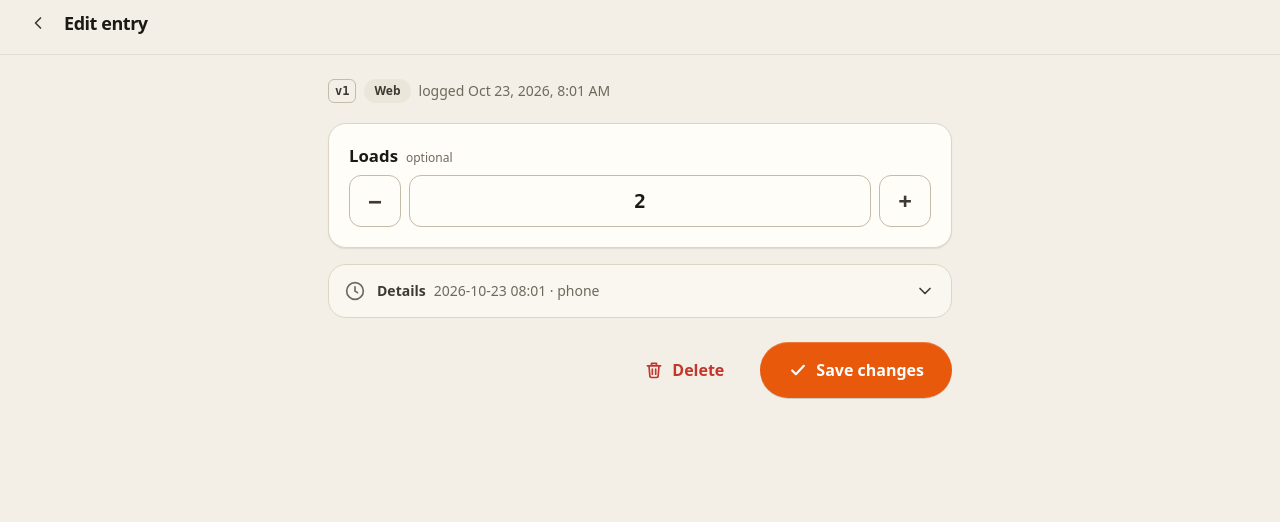
Test case: EntryEditPage when the entry changes elsewhere › a dirty form keeps the edits and says so, until Reload
Replace the text in the field labelled "Loads optional" with "7": (640, 201) [409, 175, 871, 227]
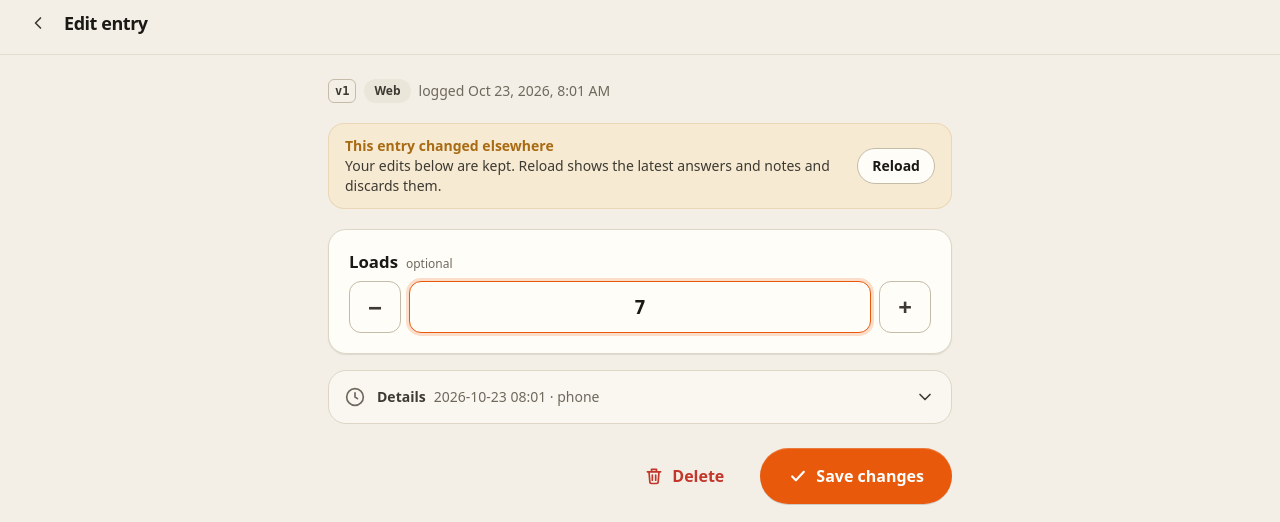
expect the text "This entry changed elsewhere" is shown: met, box [345, 136, 554, 155]
Click the button "Reload": (896, 166) [857, 148, 935, 184]
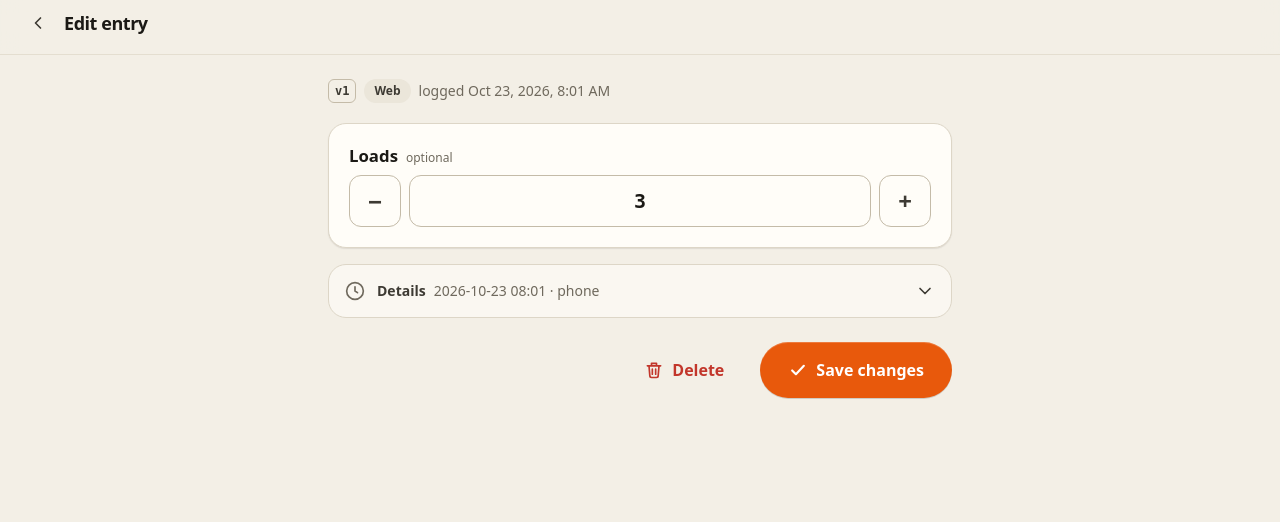
expect the field labelled "Loads optional" holds "3": met, box [409, 175, 871, 227]
expect the text "This entry changed elsewhere" is gone: met
